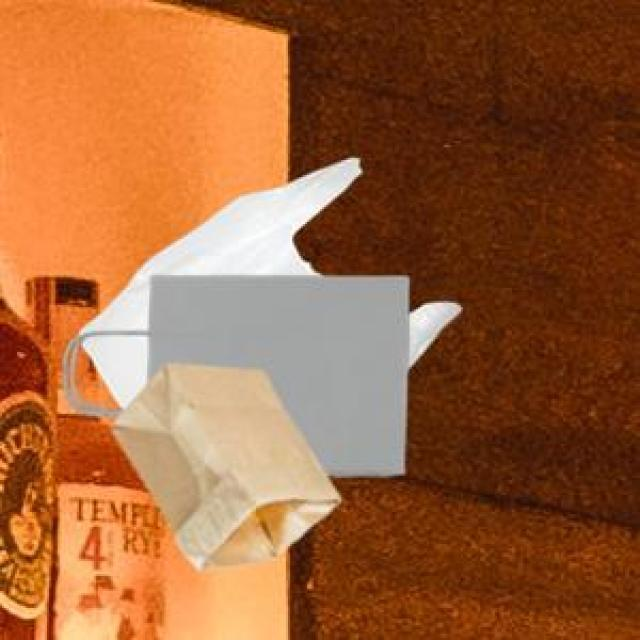paper: (60, 271, 404, 472), (109, 361, 337, 565)
